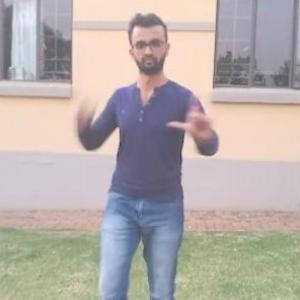land_hand: (166, 81, 225, 141)
